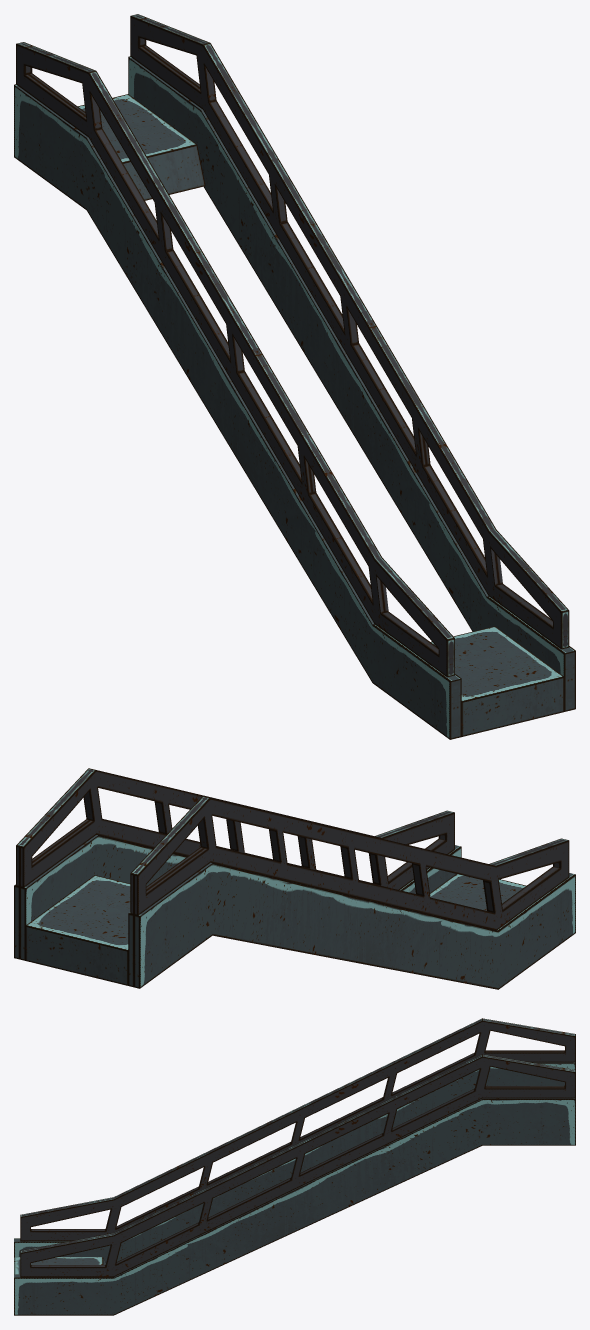
Rendered from EscalatorBody.fbx.
3 renders of one model, top to bottom at view 1: azimuth 30°, elevation 25°; view 2: azimuth 150°, elevation 25°; view 3: azimuth 270°, elevation 25°, orthographic. The views are drawn at different scales.
Visible parts, largest first — view 1: EscalatorBody; view 2: EscalatorBody; view 3: EscalatorBody.
Boxes of the visible parts, x1=… form: EscalatorBody: x1=14, y1=14, x2=575, y2=739; EscalatorBody: x1=14, y1=768, x2=575, y2=989; EscalatorBody: x1=14, y1=1018, x2=575, y2=1315.
Size of the model in its own units: 200 by 608 by 1200.
1 material, 1 textured.
